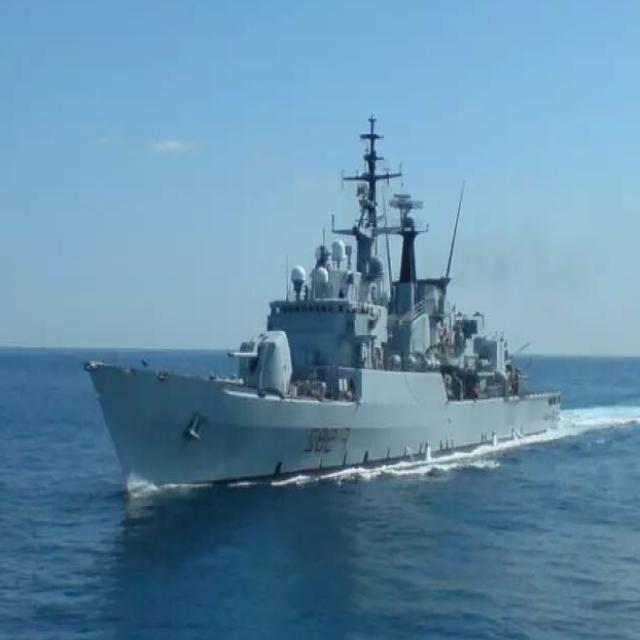navalvessels: (94, 128, 585, 506)
